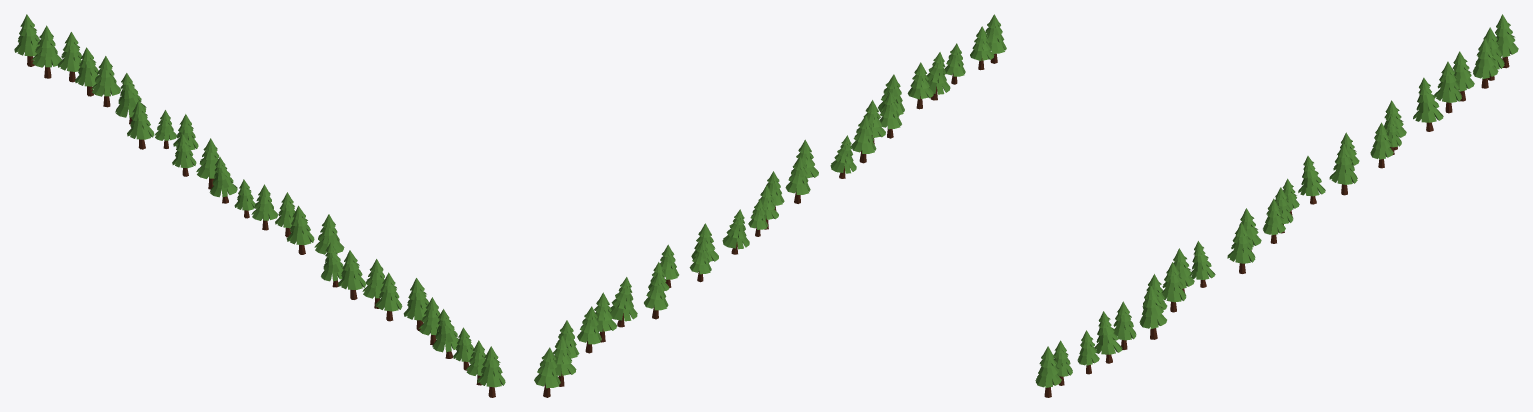
Rendered from treeR.fbx.
The picture shows the model from 3 angles, left to right: view 1: azimuth 30°, elevation 25°; view 2: azimuth 150°, elevation 25°; view 3: azimuth 330°, elevation 25°; orthographic projection. The views are drawn at different scales.
Visible parts, largest first — view 1: Pine_050, Pine_047, Pine_06, Pine_02, Pine_049, Pine_021, Pine_04, Pine_024, Pine_046, Pine_045, Pine_026, Pine_019 (+14 smaller); view 2: Pine_046, Pine_049, Pine_021, Pine_02, Pine_026, Pine_024, Pine_048, Pine_045, Pine_022, Pine_05, Pine_050, Pine_019 (+11 smaller); view 3: Pine_046, Pine_04, Pine_02, Pine_029, Pine_047, Pine_023, Pine_06, Pine_051, Pine_020, Pine_026, Pine_049, Pine_05 (+7 smaller).
Part boxes in pixels (x1,y1,x2,y2): Pine_050: (31, 25, 61, 78); Pine_047: (91, 56, 121, 107); Pine_06: (477, 346, 505, 397); Pine_02: (432, 309, 458, 358); Pine_049: (14, 14, 39, 66); Pine_021: (338, 250, 365, 299); Pine_04: (403, 278, 429, 330); Pine_024: (286, 205, 314, 254); Pine_046: (115, 73, 146, 124); Pine_045: (127, 101, 154, 149); Pine_026: (209, 157, 237, 203); Pine_019: (375, 272, 402, 321); Pine_046: (610, 277, 637, 327); Pine_049: (534, 347, 560, 397); Pine_021: (851, 115, 876, 163); Pine_02: (927, 52, 950, 100); Pine_026: (722, 209, 749, 254); Pine_024: (785, 157, 810, 203); Pine_048: (577, 306, 601, 353); Pine_045: (644, 272, 668, 319); Pine_022: (830, 135, 856, 178); Pine_05: (907, 62, 933, 109); Pine_050: (553, 335, 576, 386); Pine_019: (879, 91, 901, 138); Pine_046: (1413, 77, 1443, 131); Pine_04: (1139, 285, 1166, 339); Pine_02: (1094, 311, 1122, 363); Pine_029: (1329, 143, 1357, 195); Pine_047: (1434, 61, 1462, 113); Pine_023: (1227, 222, 1255, 273); Pine_06: (1035, 346, 1061, 397); Pine_051: (1473, 38, 1498, 88); Pine_020: (1161, 262, 1186, 312); Pine_026: (1298, 156, 1325, 204); Pine_049: (1495, 14, 1518, 68); Pine_05: (1113, 301, 1136, 349).
Bounding box in the file's own units: 86.29 × 106 × 1596.
Materials: 1 (1 with a texture image).
